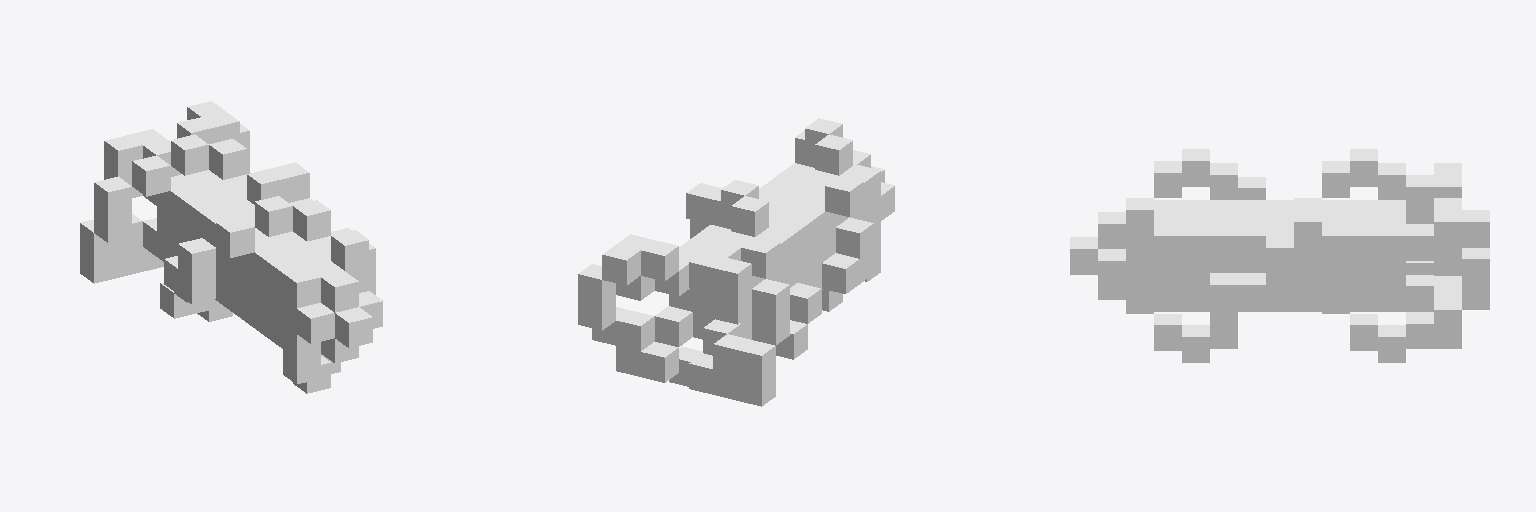
Rendered from Projectile_Tank_Futuro.obj.
3 views of the same model, side by side, from view 1: azimuth 30°, elevation 25°; view 2: azimuth 150°, elevation 25°; view 3: azimuth 270°, elevation 25° (orthographic).
Visible parts, largest first — view 1: object 1; view 2: object 1; view 3: object 1.
Part boxes in pixels (left/top/right/bottom): object 1: left=80, top=101, right=382, bottom=393; object 1: left=578, top=118, right=894, bottom=406; object 1: left=1070, top=149, right=1489, bottom=362.
Bounding box in the file's own units: 0.7 × 0.7 × 1.5.